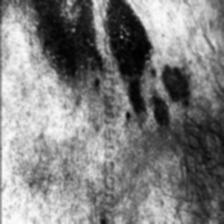Unclassified: (153, 0, 224, 224), (22, 0, 92, 82), (124, 0, 149, 148)
